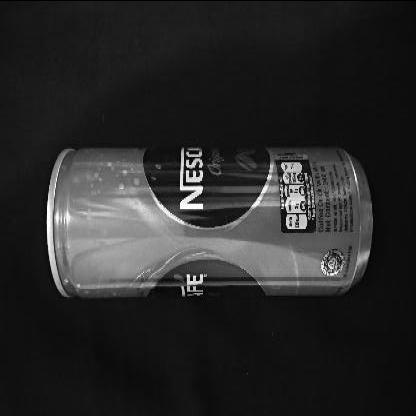alumunium_can: (44, 144, 376, 304)
